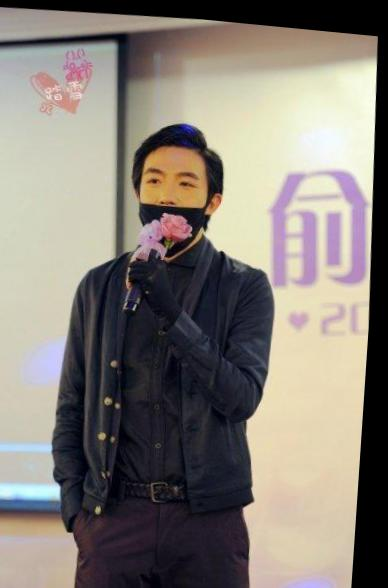WRONG: (133, 157, 223, 250)
